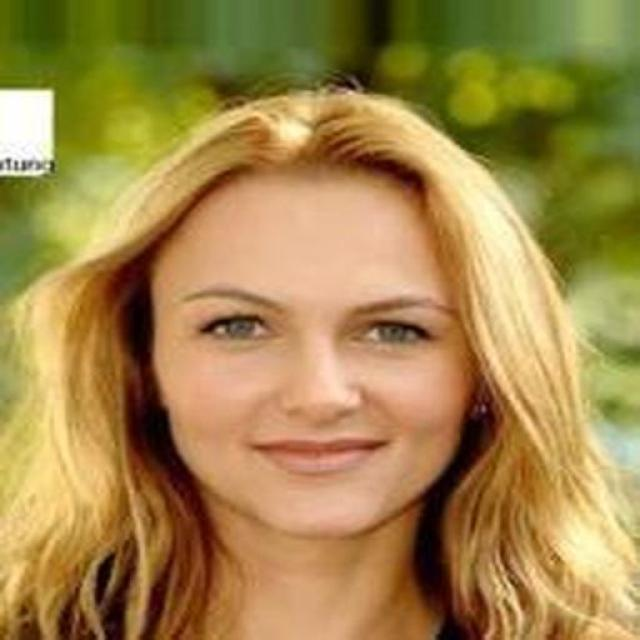bareface: (146, 102, 516, 530)
